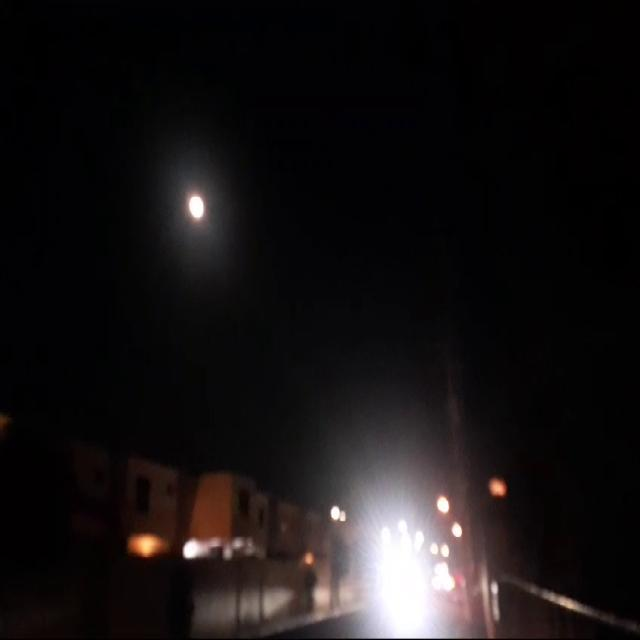moon: (185, 194, 204, 228)
